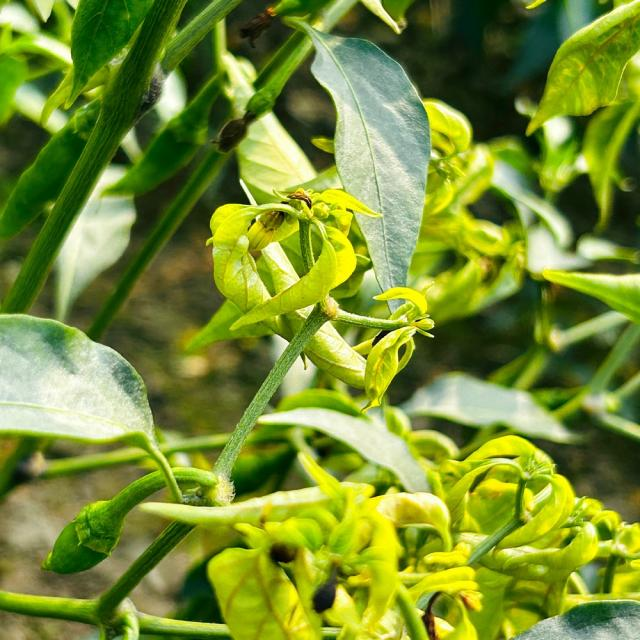Chilli_Leaf_Curl: (1, 1, 638, 638), (204, 179, 434, 410), (204, 453, 480, 639), (280, 15, 432, 311), (206, 182, 382, 331), (0, 311, 156, 447), (40, 465, 232, 575), (524, 0, 638, 137), (255, 404, 429, 493)
